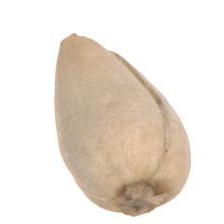L1: (114, 180, 164, 218), (57, 29, 112, 57)
L2: (53, 31, 192, 216)
